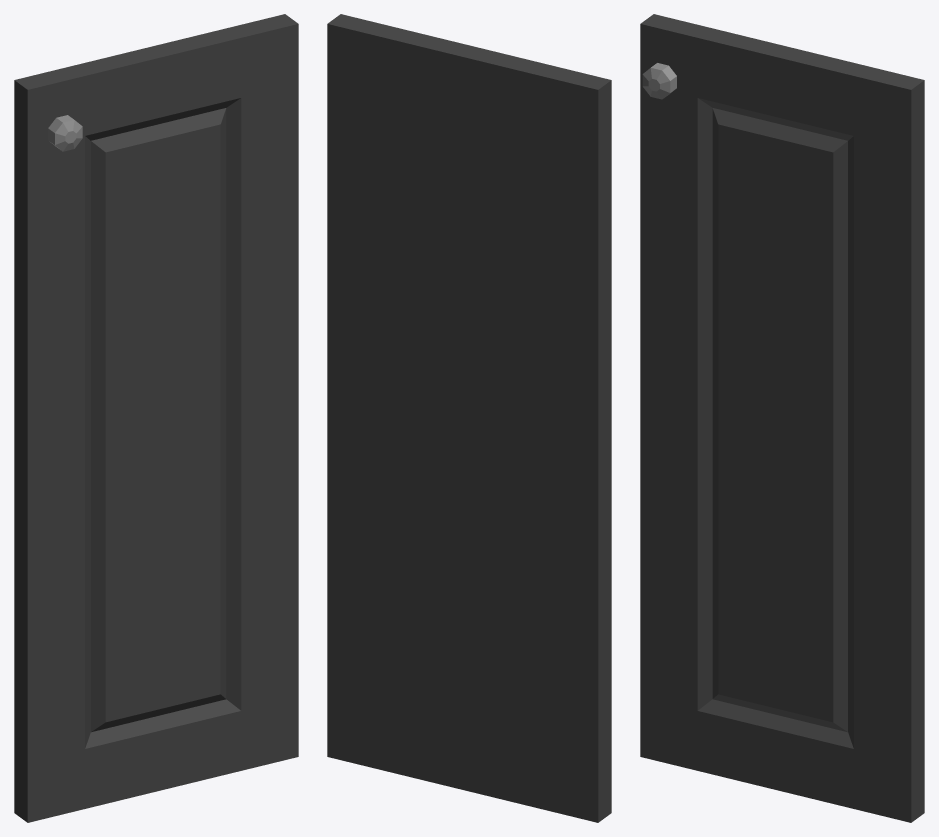
Rendered from Door3_C3_03.fbx.
3 views of the same model, side by side, from view 1: azimuth 30°, elevation 25°; view 2: azimuth 150°, elevation 25°; view 3: azimuth 330°, elevation 25° (orthographic).
Parts seen in each view (by area): view 1: Door3_C3_03; view 2: Door3_C3_03; view 3: Door3_C3_03.
Part boxes in pixels (left/top/right/bottom): Door3_C3_03: left=14, top=14, right=298, bottom=822; Door3_C3_03: left=327, top=14, right=611, bottom=822; Door3_C3_03: left=640, top=14, right=924, bottom=822.
Size of the model in its own units: 29 by 75 by 5.19.
